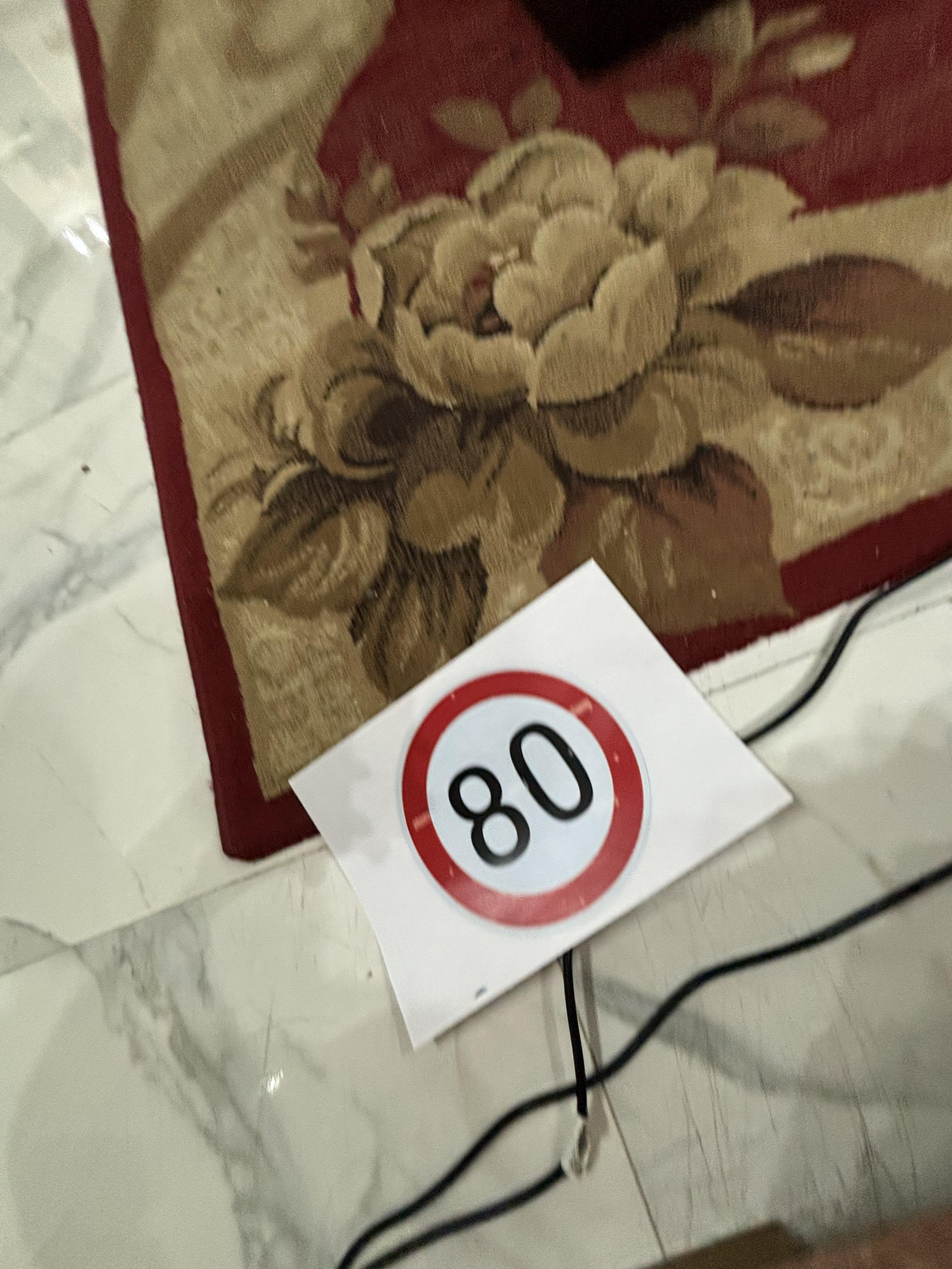80-Speed: (401, 666, 657, 939)
